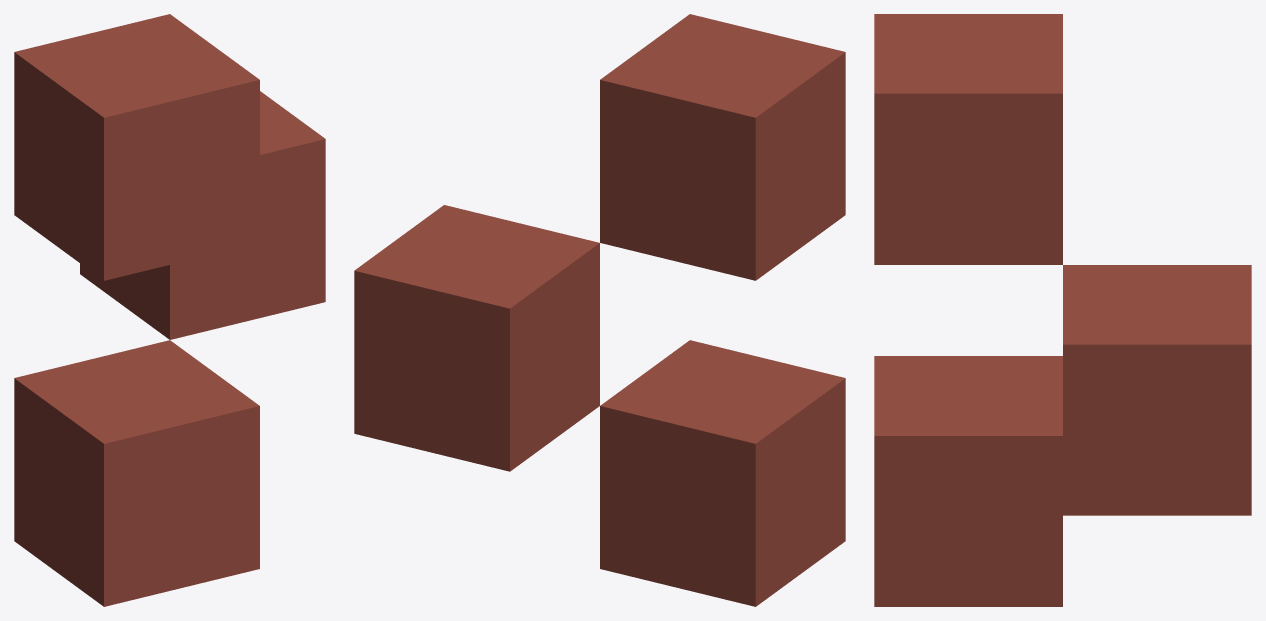
File: NB_TR_F_Braid_Test_00sm.fbx
The picture shows the model from 3 angles, left to right: view 1: azimuth 30°, elevation 25°; view 2: azimuth 150°, elevation 25°; view 3: azimuth 270°, elevation 25°; orthographic projection. The views are drawn at different scales.
Visible parts, largest first — view 1: Braid_Test_00sm; view 2: Braid_Test_00sm; view 3: Braid_Test_00sm.
Part boxes in pixels (x1,y1,x2,y2): Braid_Test_00sm: [14, 14, 325, 606]; Braid_Test_00sm: [354, 14, 845, 606]; Braid_Test_00sm: [874, 14, 1251, 606].
Bounding box in the file's own units: 2 × 3 × 2.
Materials: 1 (1 with a texture image).
